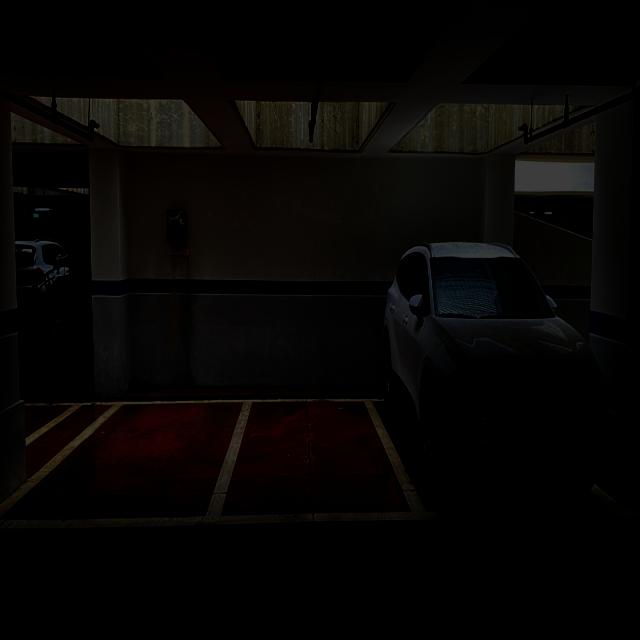empty: (0, 398, 253, 530), (202, 392, 428, 525)
occupied: (381, 242, 611, 513)
